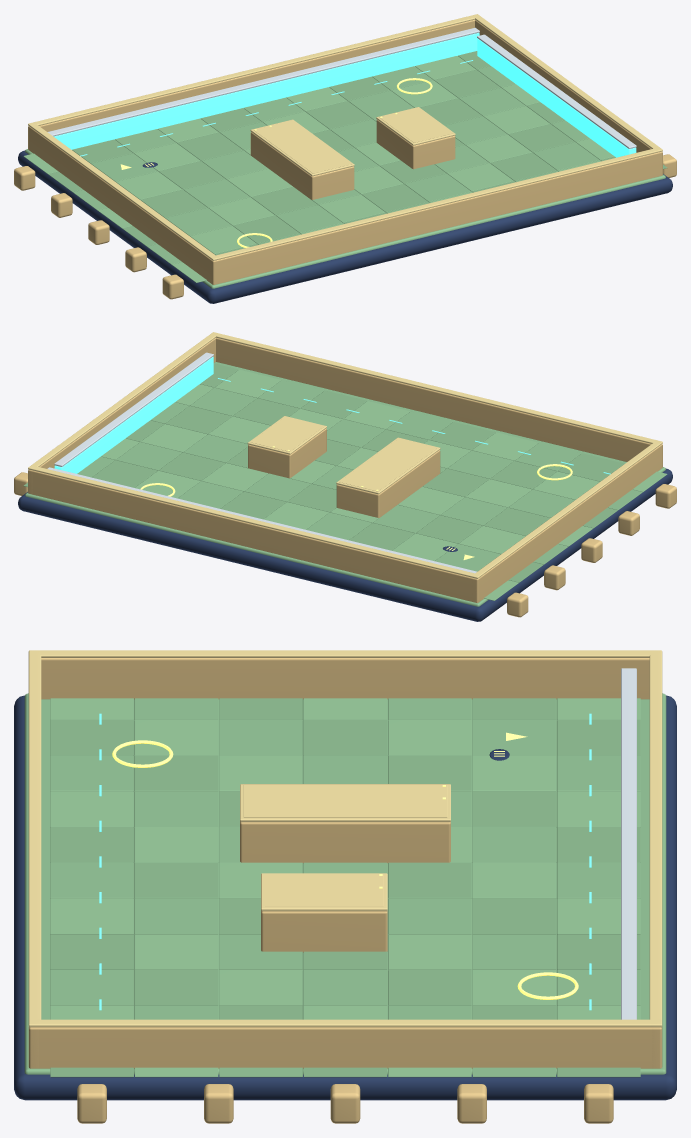
Rendered from rescue.glb.
The picture shows the model from 3 angles, top to bottom: view 1: azimuth 30°, elevation 25°; view 2: azimuth 150°, elevation 25°; view 3: azimuth 270°, elevation 25°; orthographic projection. The views are drawn at different scales.
Visible parts, largest first — view 1: SOLID 1 border, Floating island, SOLID 6 reflector, SOLID 2 border, SOLID 0 border, SOLID crown 6 reflector, SOLID 7 reflector, SOLID 4 cover, SOLID crown 1 border, SOLID crown 0 border, Roof trim, Ground (+60 smaller); view 2: SOLID 0 border, SOLID 1 border, Floating island, SOLID 2 border, Ground, SOLID 7 reflector, SOLID 4 cover, SOLID crown 0 border, SOLID crown 1 border, Roof trim, SOLID 5 cover, SOLID 3 border (+60 smaller); view 3: SOLID 3 border, SOLID 2 border, Floating island, Ground, SOLID 4 cover, Roof trim, SOLID crown 3 border, SOLID crown 6 reflector, SOLID crown 1 border, SOLID crown 0 border, SOLID 5 cover, SOLID crown 2 border (+82 smaller).
Boxes of the visible parts, x1,y1,x2,y2 form: SOLID 1 border: (210, 152, 662, 284); Floating island: (18, 150, 672, 303); SOLID 6 reflector: (53, 32, 479, 149); SOLID 2 border: (28, 126, 218, 284); SOLID 0 border: (39, 19, 474, 131); SOLID crown 6 reflector: (47, 27, 479, 136); SOLID 7 reflector: (477, 38, 636, 157); SOLID 4 cover: (250, 132, 354, 199); SOLID crown 1 border: (210, 147, 662, 260); SOLID crown 0 border: (28, 14, 479, 125); Roof trim: (253, 120, 351, 173); Ground: (25, 59, 665, 288); SOLID 0 border: (29, 470, 480, 602); SOLID 1 border: (216, 337, 662, 466); Floating island: (18, 468, 672, 621); SOLID 2 border: (472, 444, 662, 602); Ground: (25, 362, 665, 606); SOLID 7 reflector: (54, 356, 213, 473); SOLID 4 cover: (336, 450, 440, 517); SOLID crown 0 border: (28, 465, 480, 578); SOLID crown 1 border: (210, 332, 662, 443); Roof trim: (339, 438, 437, 491); SOLID 5 cover: (248, 428, 326, 478); SOLID 3 border: (28, 338, 215, 494); SOLID 3 border: (28, 1027, 662, 1068); SOLID 2 border: (41, 658, 649, 699); Floating island: (14, 695, 676, 1100); Ground: (24, 693, 666, 1074); SOLID 4 cover: (240, 822, 450, 863); Roof trim: (243, 785, 447, 817); SOLID crown 3 border: (28, 1019, 662, 1027); SOLID crown 6 reflector: (621, 668, 636, 1019); SOLID crown 1 border: (28, 650, 41, 1026); SOLID crown 0 border: (649, 650, 662, 1027); SOLID 5 cover: (261, 911, 387, 952); SOLID crown 2 border: (28, 650, 662, 657).
Bounding box in the file's own units: 23.7 × 2.03 × 15.7.
